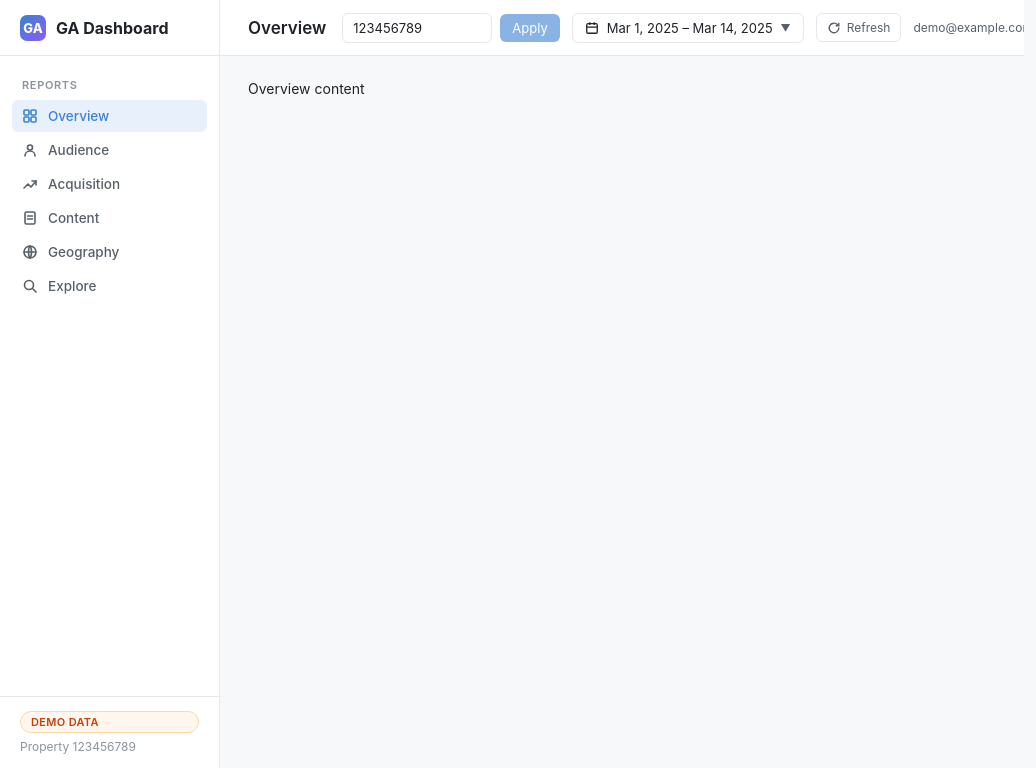
DashboardLayout › navigates between pages and updates the title
Expected: the text "Overview content" is shown, [248,80,365,97]
Click the link "Audience".
click(66, 150)  # box [22,142,109,158]
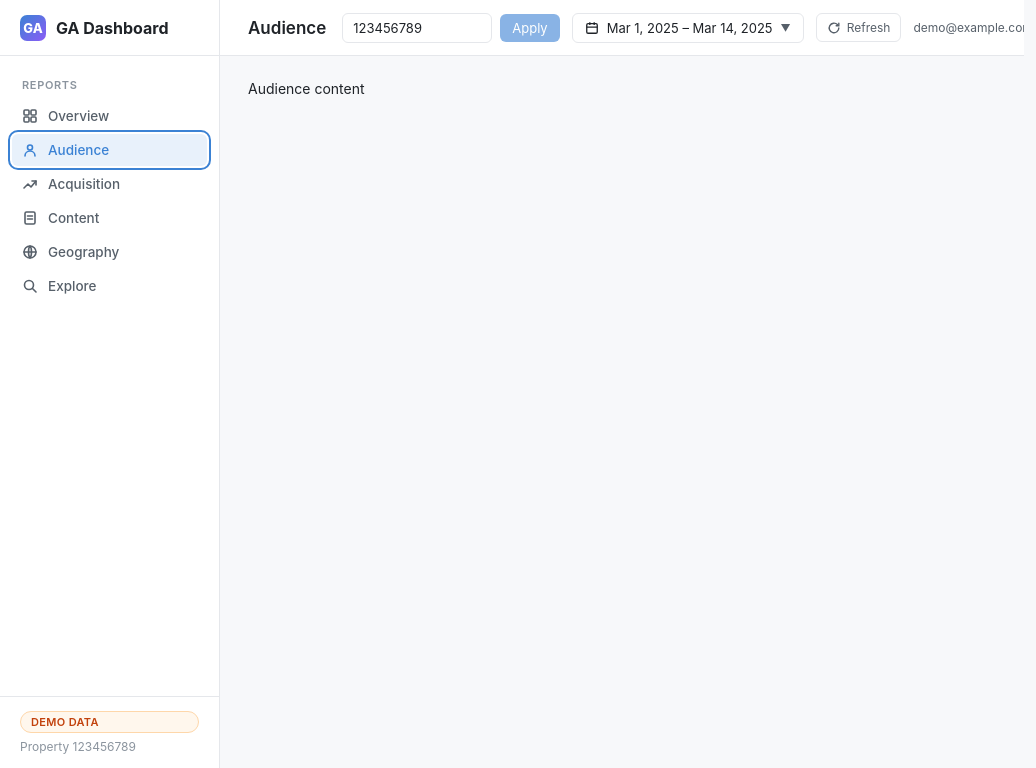
Result: the text "Audience content" is shown at [248,80,365,97]
Result: the heading reads "Audience" at [248,18,326,38]
